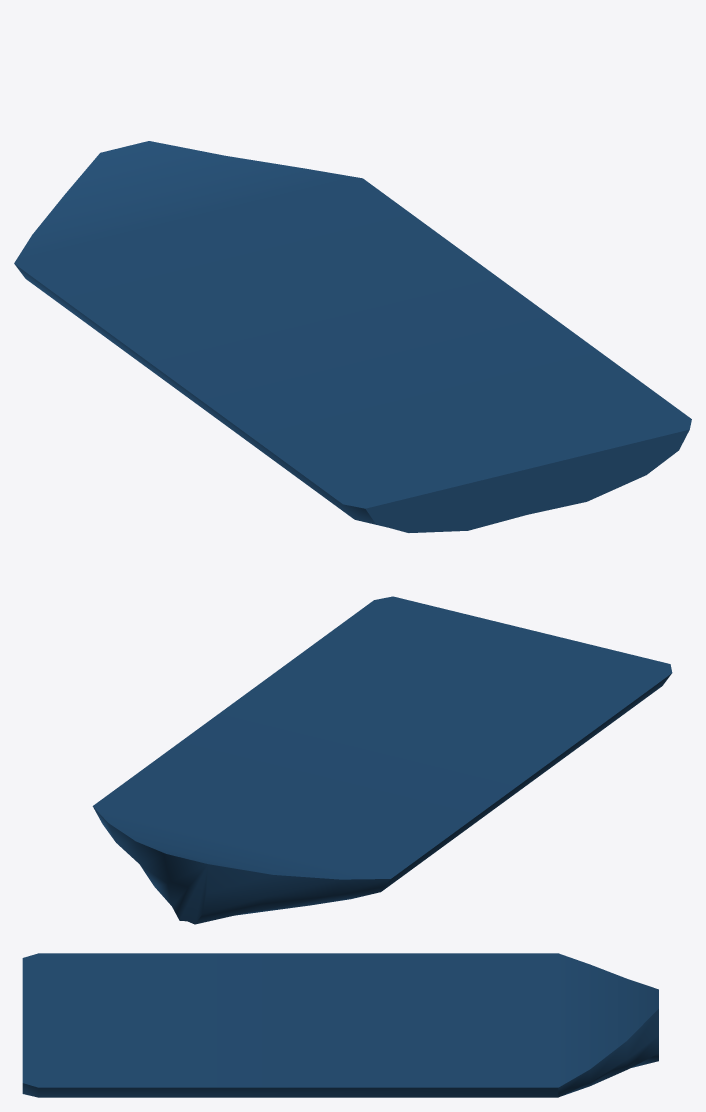
The model's file is PlayerShipHull.fbx.
3 renders of one model, top to bottom at view 1: azimuth 30°, elevation 25°; view 2: azimuth 150°, elevation 25°; view 3: azimuth 270°, elevation 25°, orthographic. The views are drawn at different scales.
Visible parts, largest first — view 1: PlayerShipHull; view 2: PlayerShipHull; view 3: PlayerShipHull.
Part boxes in pixels (box(x1,y1,x2,y2)): PlayerShipHull: box(14, 141, 691, 532); PlayerShipHull: box(92, 596, 672, 924); PlayerShipHull: box(22, 953, 658, 1097).
Bounding box in the file's own units: 12.5 × 4.95 × 25.57.
